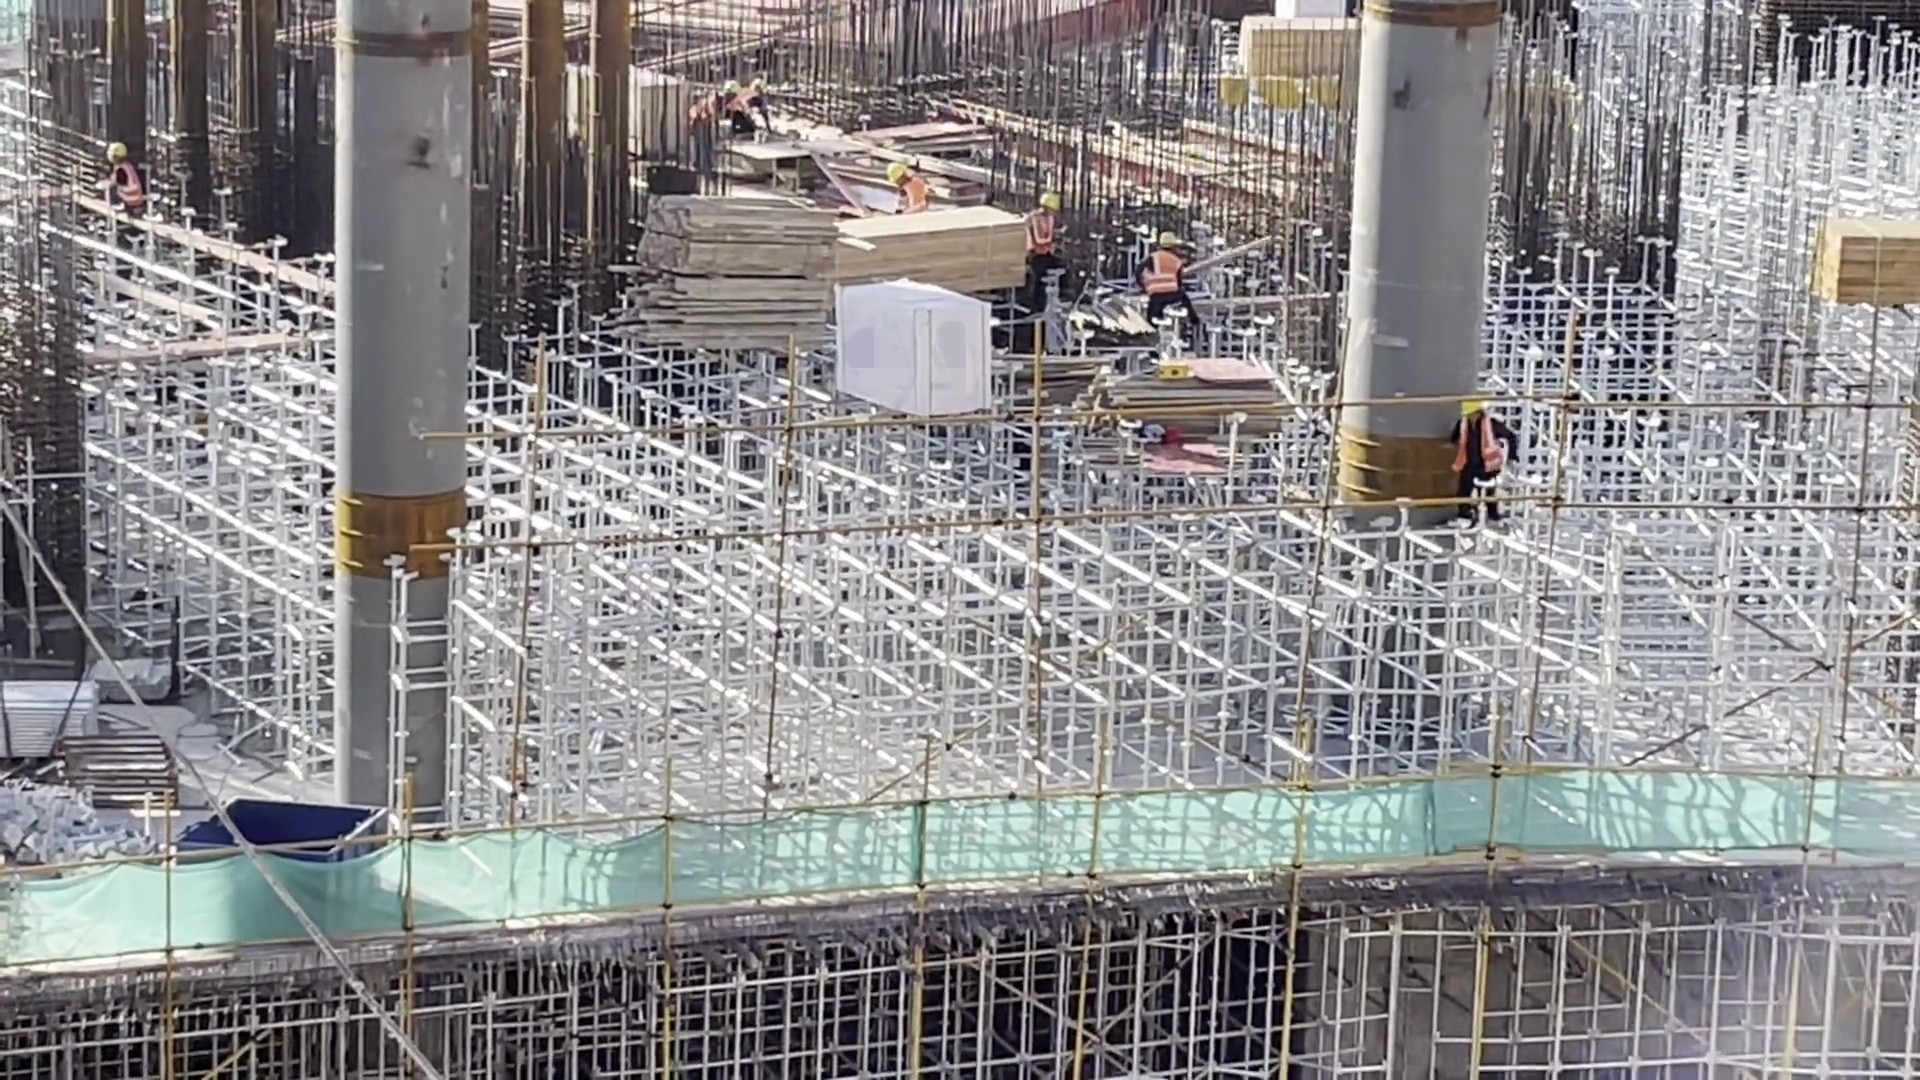board: (1093, 364, 1280, 454)
cutter: (739, 127, 878, 201)
helmet: (1460, 397, 1483, 418), (1153, 231, 1181, 248), (885, 162, 906, 185), (1038, 193, 1062, 212), (106, 142, 128, 157)
hopper: (173, 795, 389, 876)
person: (1446, 388, 1530, 524), (1135, 232, 1200, 336), (686, 81, 729, 190), (1025, 189, 1067, 290), (107, 138, 147, 244), (886, 155, 928, 212), (730, 79, 772, 128)
vest: (1458, 423, 1505, 475), (1141, 251, 1181, 294), (108, 163, 147, 210), (1025, 213, 1058, 258), (901, 178, 927, 211)
wood: (633, 196, 836, 360), (818, 203, 1024, 306), (1798, 209, 1920, 319), (1231, 13, 1365, 76)
